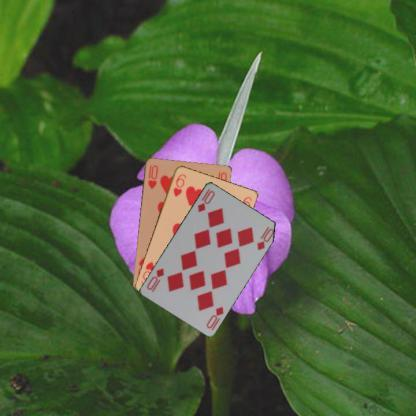10d: (203, 303, 225, 332), (194, 186, 216, 214)
10h: (145, 162, 159, 190)
6h: (171, 172, 188, 198)
